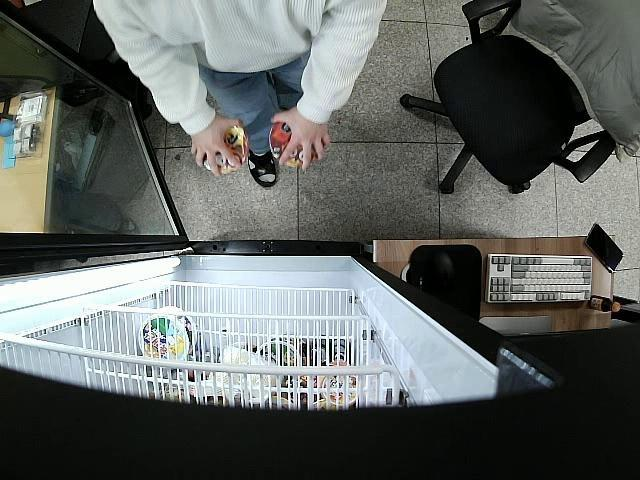05_nuguri_L: (203, 126, 250, 174), (268, 122, 317, 166)
